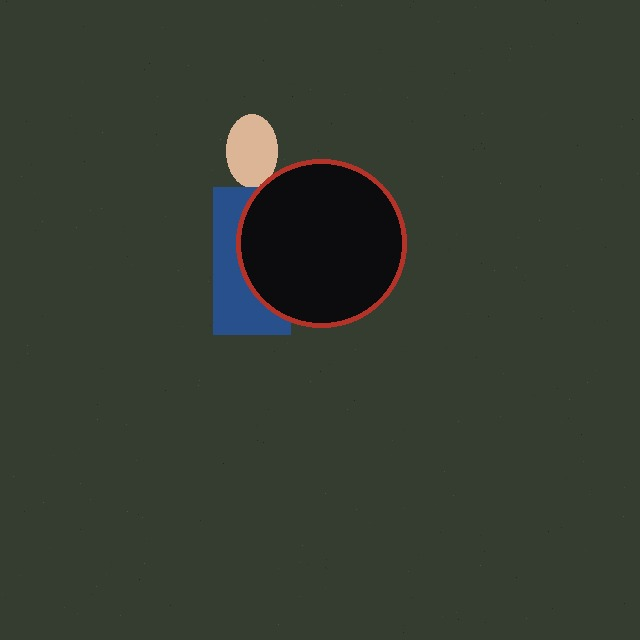open_manhole: (236, 159, 406, 327)
person: (175, 114, 329, 334)
